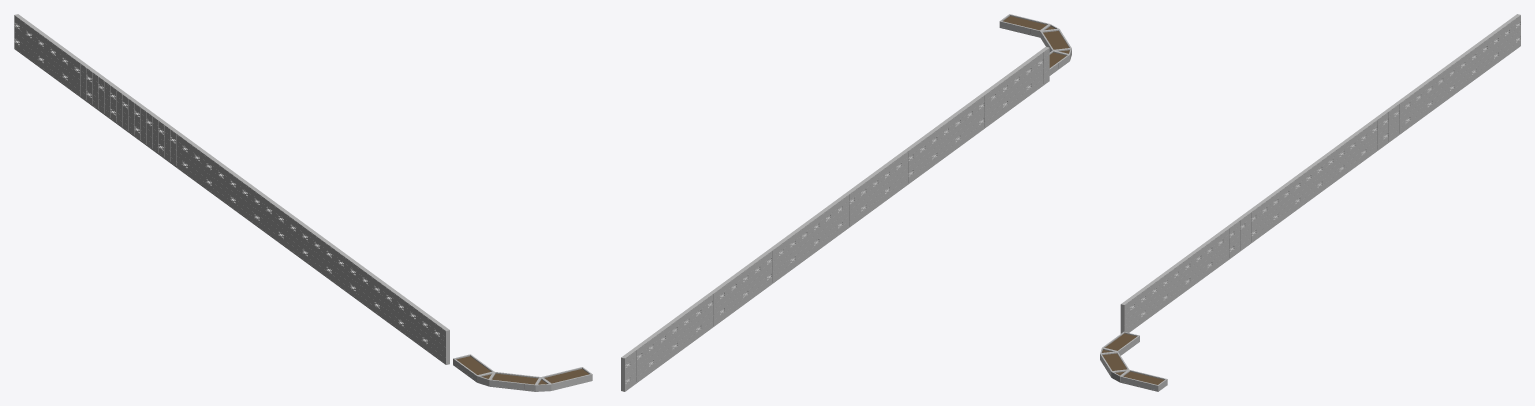
File: Fence13.fbx
3 views of the same model, side by side, from view 1: azimuth 30°, elevation 25°; view 2: azimuth 150°, elevation 25°; view 3: azimuth 330°, elevation 25° (orthographic). The views are drawn at different scales.
Visible parts, largest first — view 1: Flat_half_fence.013; view 2: Flat_half_fence.013; view 3: Flat_half_fence.013.
Boxes of the visible parts, <box> form: Flat_half_fence.013: <box>14,14,592,391</box>; Flat_half_fence.013: <box>621,14,1071,391</box>; Flat_half_fence.013: <box>1100,14,1520,391</box>.
Size of the model in its own units: 2.82 by 0.9763 by 25.22.
